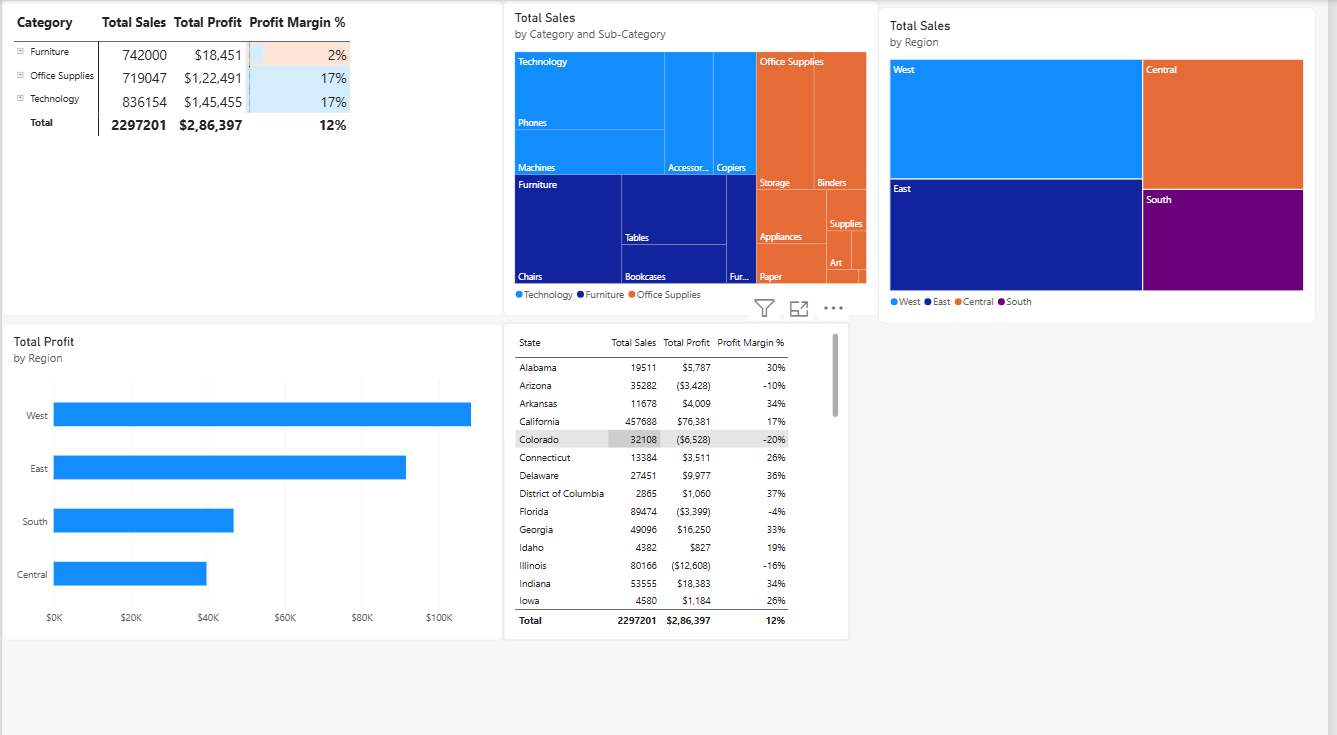

This screenshot's page, from the dashboard's own definition file:
{"tool":"powerbi","page":{"name":"Page 2","canvas":[1920,1080],"ordinal":1},"visuals":[{"type":"treemap","fields":{"Details":["Dim_Product.Sub-Category"],"Group":["Dim_Product.Category"],"Values":["Fact_Orders.Total Sales"]},"box":[724.8,0,543.1,457.6],"z":0},{"type":"pivotTable","fields":{"Rows":["Dim_Product.Category","Dim_Product.Sub-Category"],"Values":["Fact_Orders.Total Sales","Fact_Orders.Total Profit","Fact_Orders.Profit Margin %"]},"box":[0,0,724.8,457.6],"z":1},{"type":"treemap","fields":{"Group":["Fact_Orders.Region"],"Values":["Fact_Orders.Total Sales"]},"box":[1267.9,10.7,632.9,457.6],"z":2},{"type":"clusteredBarChart","fields":{"Category":["Fact_Orders.Region"],"Y":["Fact_Orders.Total Profit"]},"box":[0,468,725,458],"z":3},{"type":"tableEx","fields":{"Values":["Fact_Orders.State","Fact_Orders.Total Sales","Fact_Orders.Total Profit","Fact_Orders.Profit Margin %"]},"box":[724.8,466.1,502.4,459.7],"z":4}]}

Visuals, with their boxes in screenshot pixels (x1, y1, x2, y2), scaled from the page's 1920x1080 canvas onto the 1337x735 screenshot:
treemap - Dim_Product.Sub-Category x Dim_Product.Category: x1=505 y1=0 x2=883 y2=311
pivotTable - Dim_Product.Category x Dim_Product.Sub-Category: x1=0 y1=0 x2=505 y2=311
treemap - Fact_Orders.Region x Fact_Orders.Total Sales: x1=883 y1=7 x2=1324 y2=319
clusteredBarChart - Fact_Orders.Region x Fact_Orders.Total Profit: x1=0 y1=318 x2=505 y2=630
tableEx - Fact_Orders.State x Fact_Orders.Total Sales: x1=505 y1=317 x2=855 y2=630
